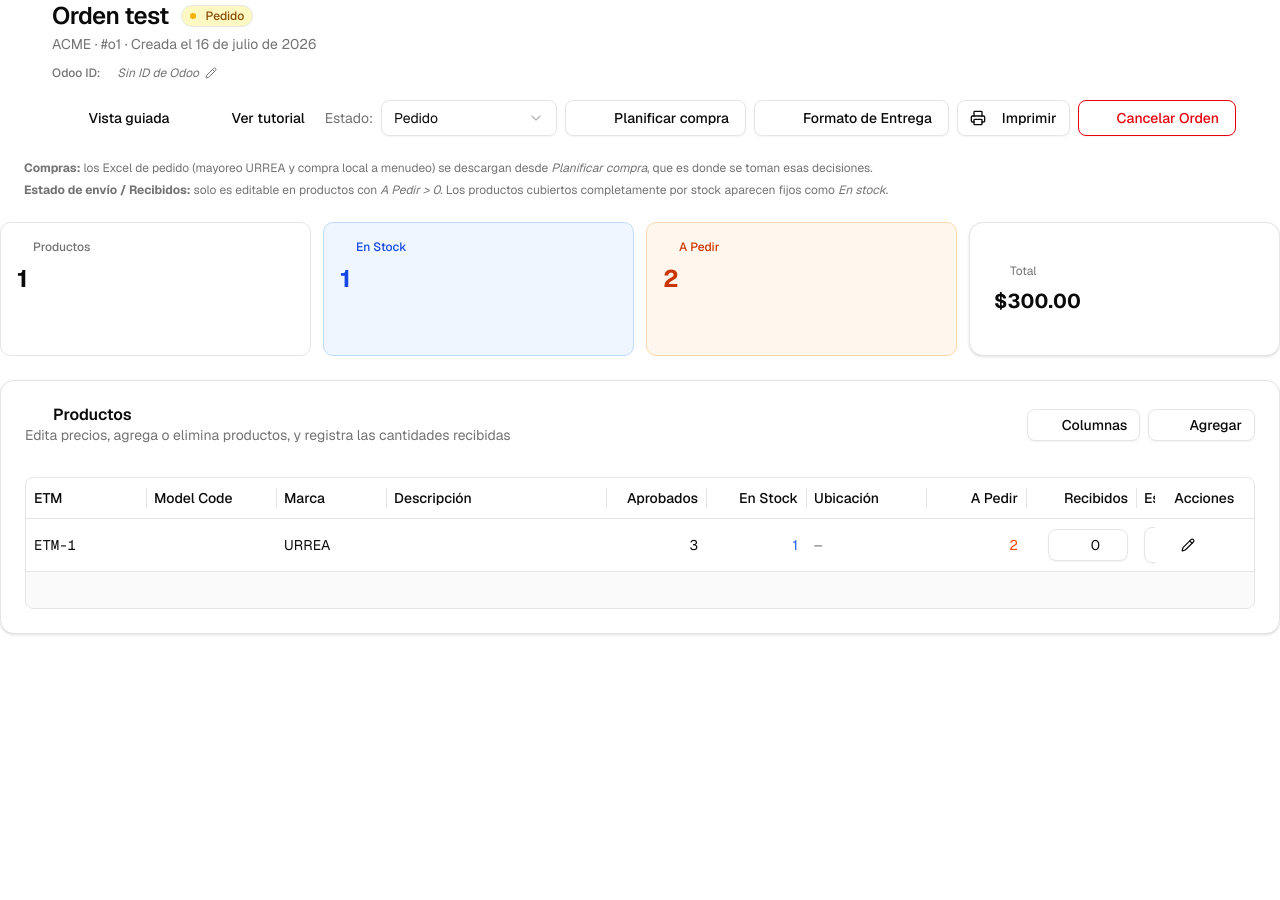
Test: OrderDetail — recepción con excedente › una línea sin código URREA conserva su ETM como identificador en el resumen (review PR #147)
Replace the text in the number field with "2" at (1088,544), box x1=1048 y1=528 x2=1128 y2=560
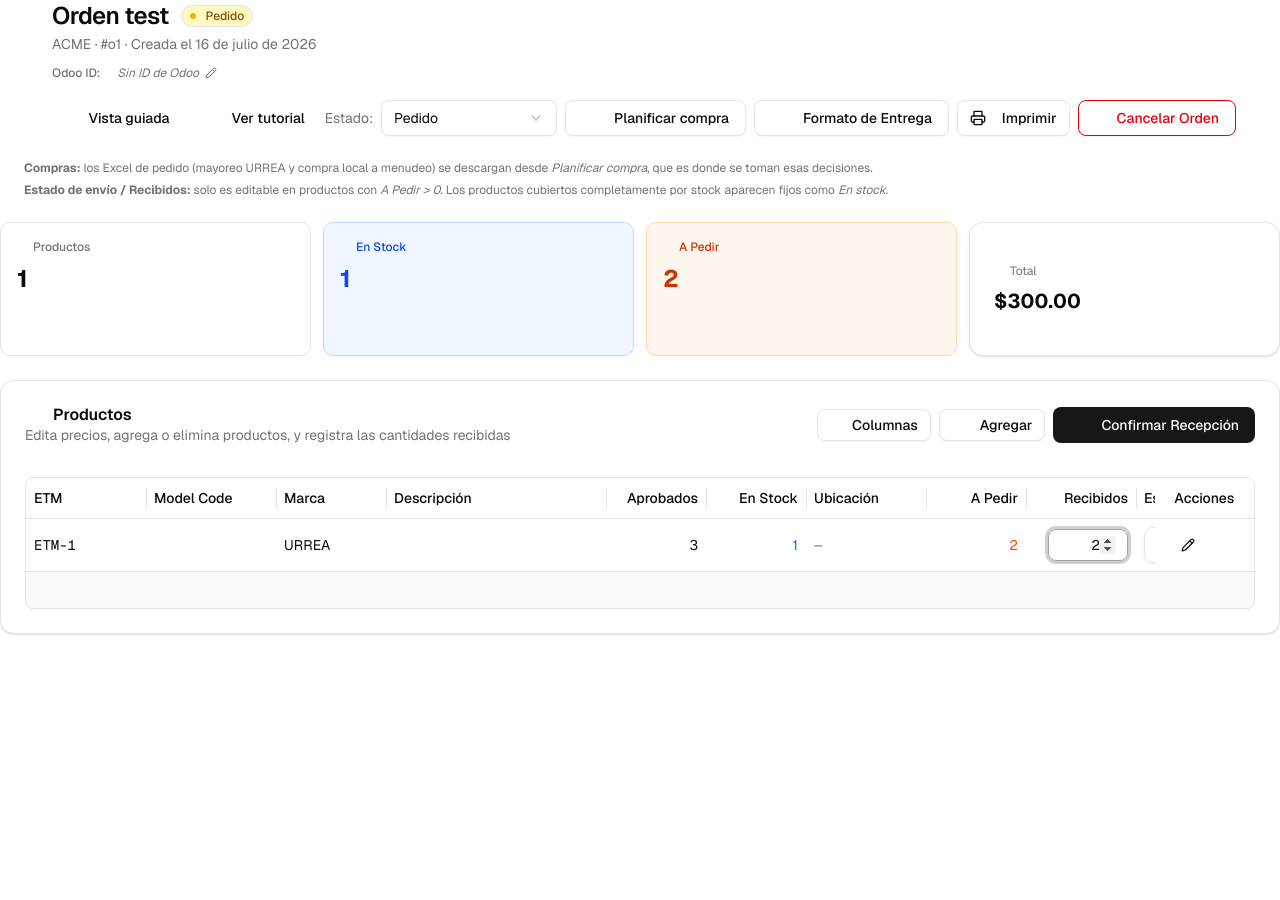
Click the button "Confirmar Recepción" at (1154,425), box x1=1053 y1=407 x2=1255 y2=443
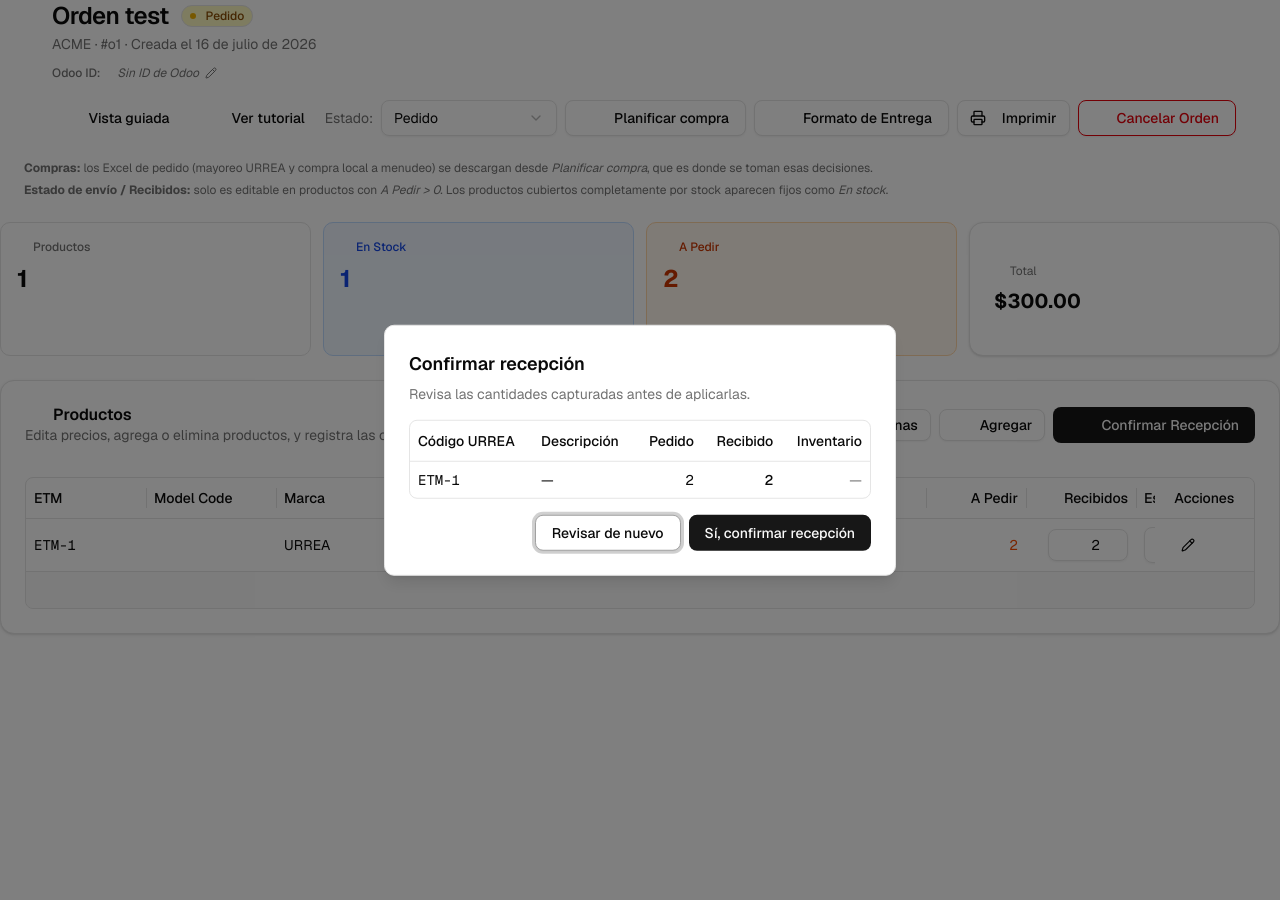
Expected: the text "ETM-1" is shown, x1=410 y1=461 x2=533 y2=497
